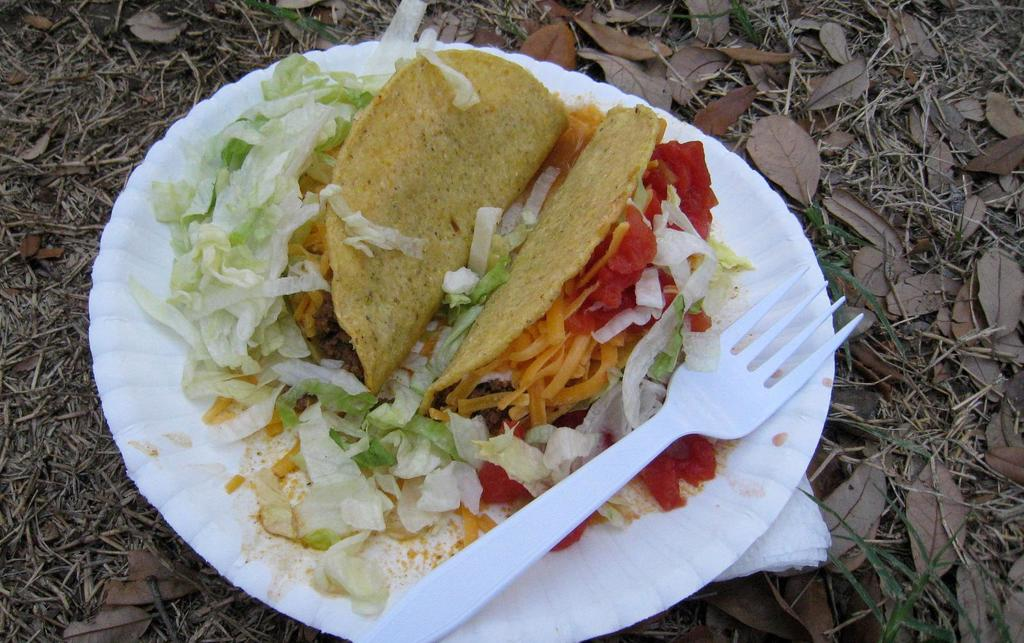taco: (275, 44, 566, 393), (453, 65, 695, 470)
